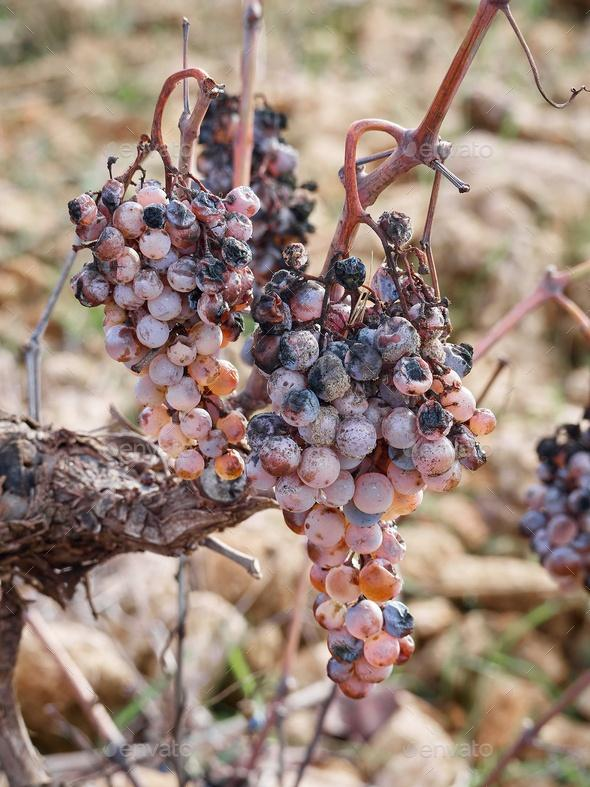Grape Overripe: (239, 213, 495, 698), (68, 174, 260, 483), (70, 179, 230, 485), (183, 228, 248, 345)
